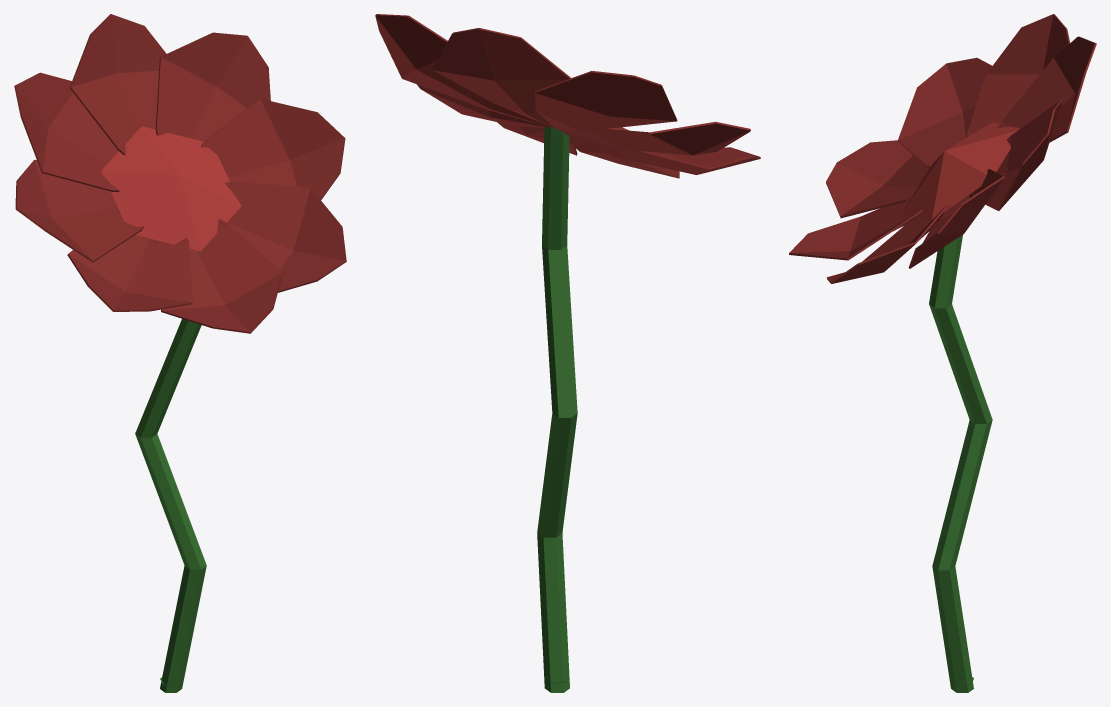
File: Flower_5_Red.fbx
The picture shows the model from 3 angles, left to right: view 1: azimuth 30°, elevation 25°; view 2: azimuth 150°, elevation 25°; view 3: azimuth 270°, elevation 25°; orthographic projection. The views are drawn at different scales.
Parts seen in each view (by area): view 1: Flower_5_Red_Part_2, Flower_5_Red_Part_3, Flower_5_Red_Part_1; view 2: Flower_5_Red_Part_2, Flower_5_Red_Part_1; view 3: Flower_5_Red_Part_2, Flower_5_Red_Part_1, Flower_5_Red_Part_3.
Boxes of the visible parts, box(x1,y1,x2,y2) form: Flower_5_Red_Part_2: box(14, 14, 346, 333); Flower_5_Red_Part_3: box(101, 126, 241, 251); Flower_5_Red_Part_1: box(135, 319, 206, 692); Flower_5_Red_Part_2: box(375, 14, 760, 178); Flower_5_Red_Part_1: box(537, 127, 577, 692); Flower_5_Red_Part_2: box(789, 14, 1096, 283); Flower_5_Red_Part_1: box(929, 235, 992, 692); Flower_5_Red_Part_3: box(901, 122, 1020, 220).
Size of the model in its own units: 20.28 by 37.24 by 16.04.
